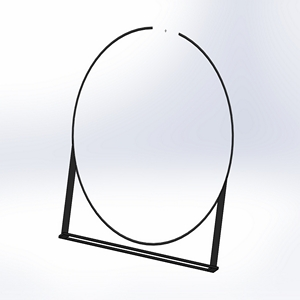circle: (57, 23, 235, 275)
